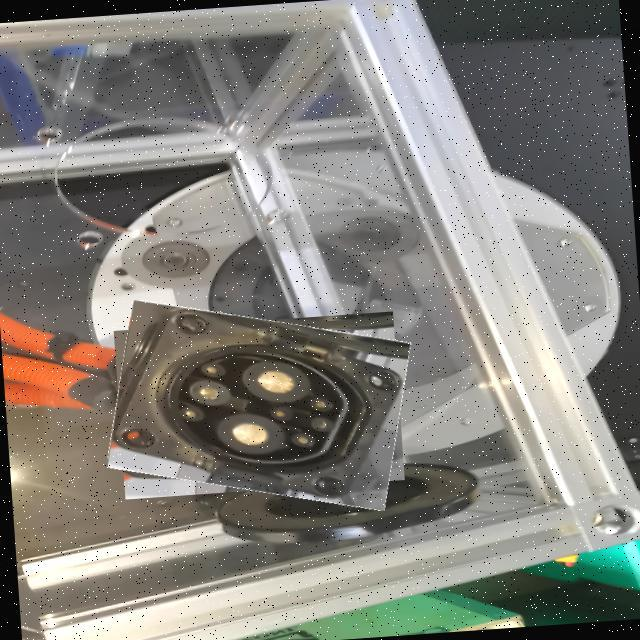GB-T: (128, 306, 404, 516)
